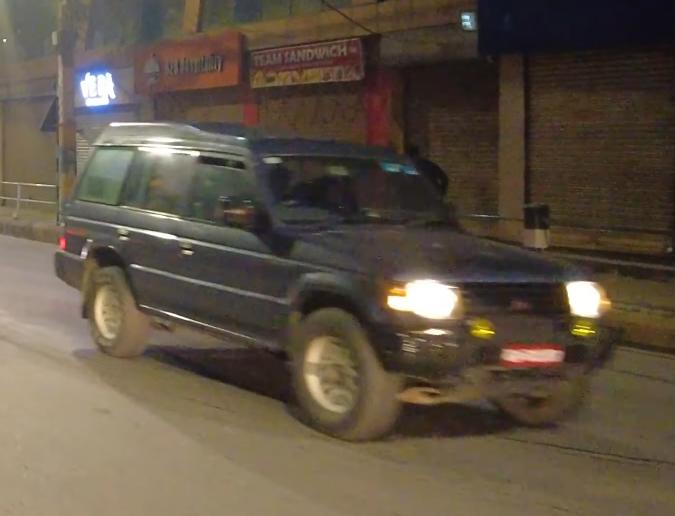SUV: (58, 113, 613, 445)
